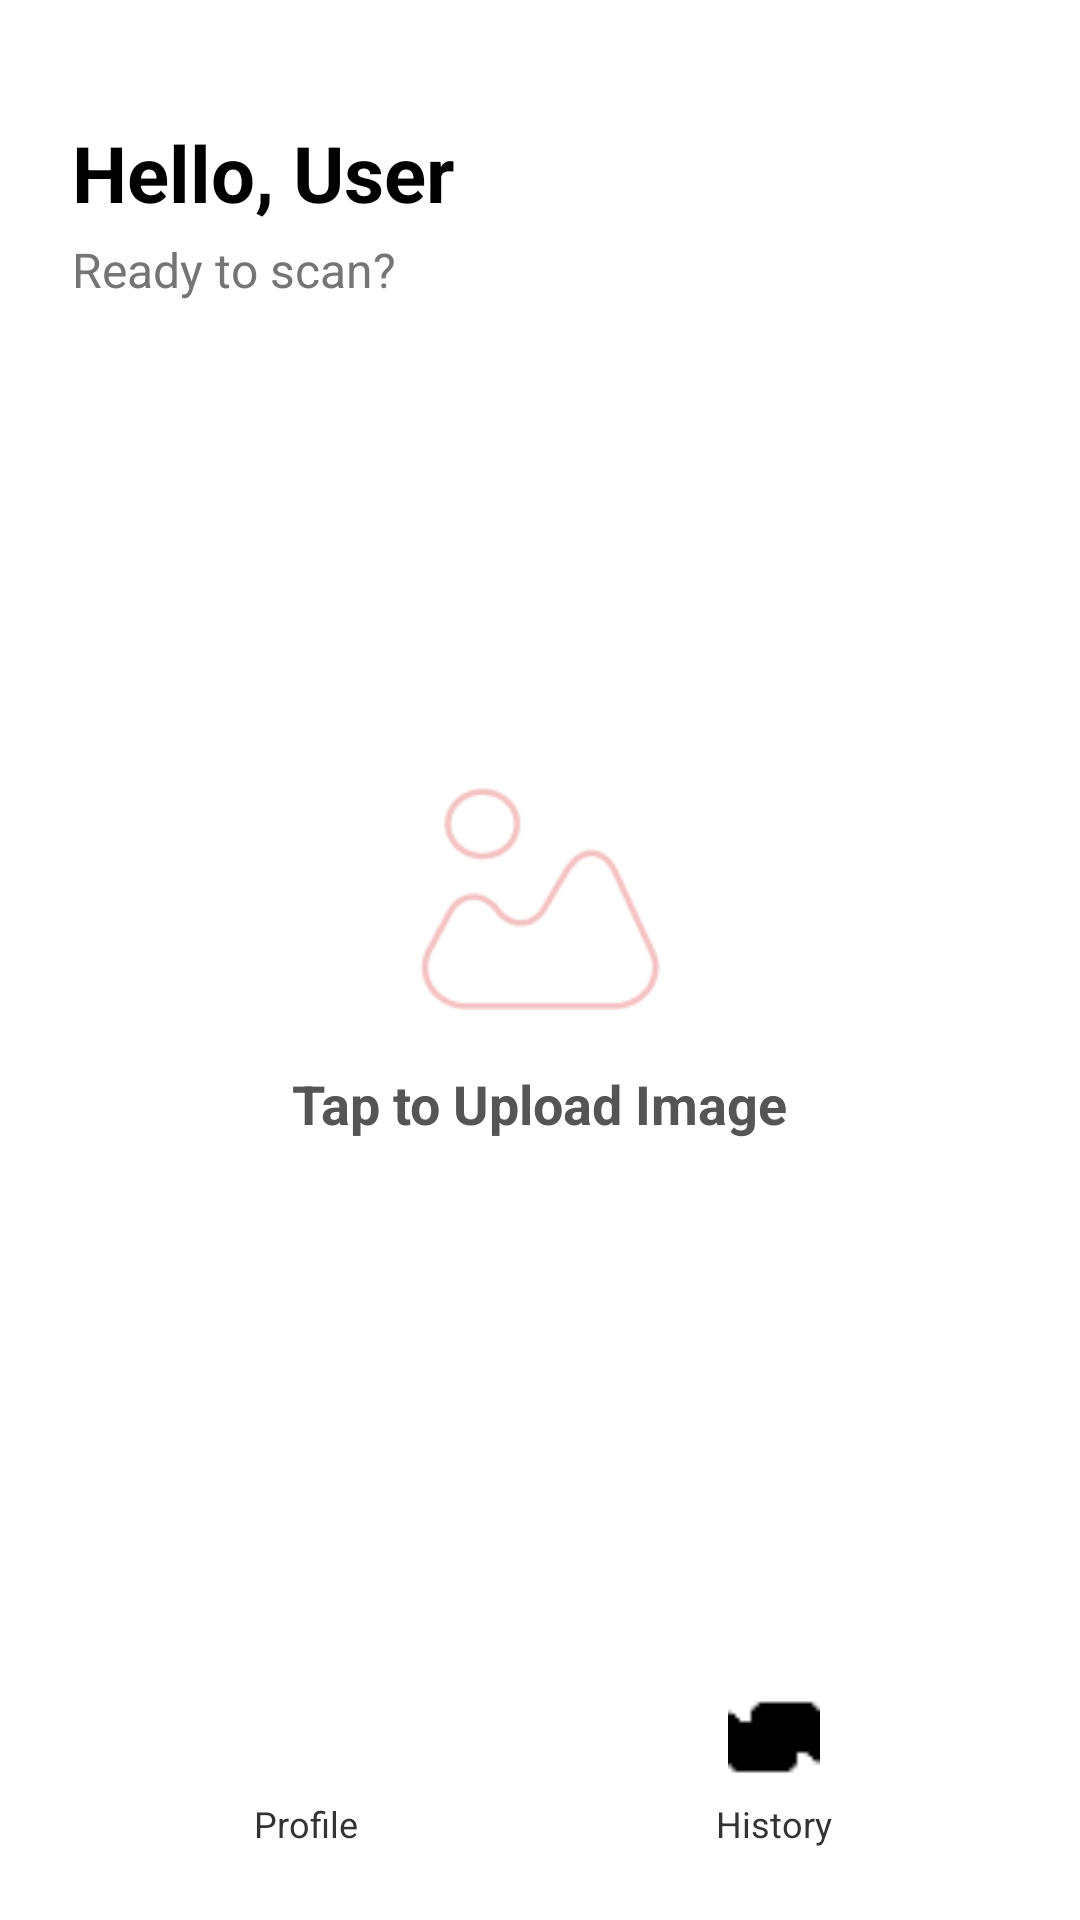

Point at icon controls on the screen. Image size 1080px×1920px, points as [x,y].
gallery symbol: [541,899]
